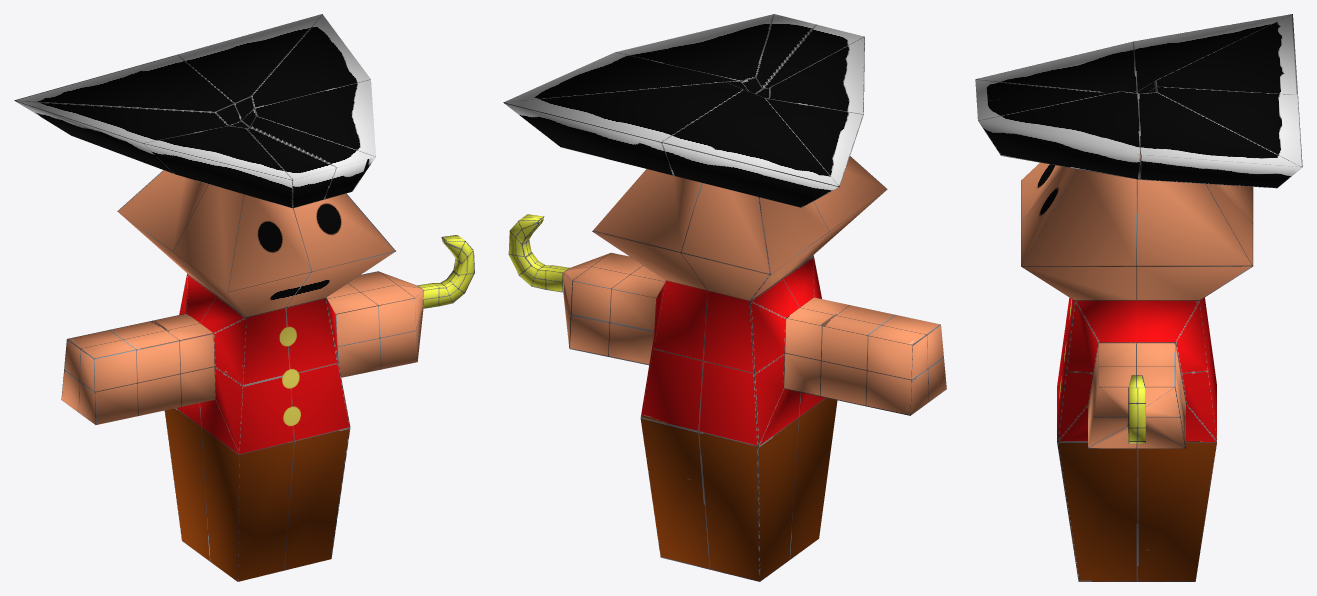
File: pirate.fbx
3 views of the same model, side by side, from view 1: azimuth 30°, elevation 25°; view 2: azimuth 150°, elevation 25°; view 3: azimuth 270°, elevation 25° (orthographic). The views are drawn at different scales.
Visible parts, largest first — view 1: Cube; view 2: Cube; view 3: Cube.
Boxes of the visible parts, left/top/right/bottom form: Cube: left=14, top=14, right=474, bottom=581; Cube: left=503, top=14, right=946, bottom=581; Cube: left=975, top=14, right=1302, bottom=581.
Size of the model in its own units: 159 by 173 by 110.
